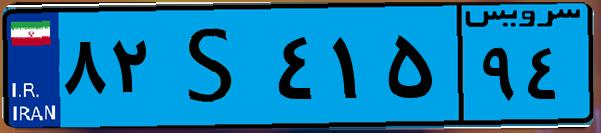1: (330, 28, 385, 110)
2: (110, 28, 158, 98)
4: (270, 28, 330, 110), (525, 38, 570, 115)
5: (385, 28, 445, 110)
8: (57, 26, 110, 100)
9: (475, 38, 525, 113)
S: (158, 12, 270, 120)
